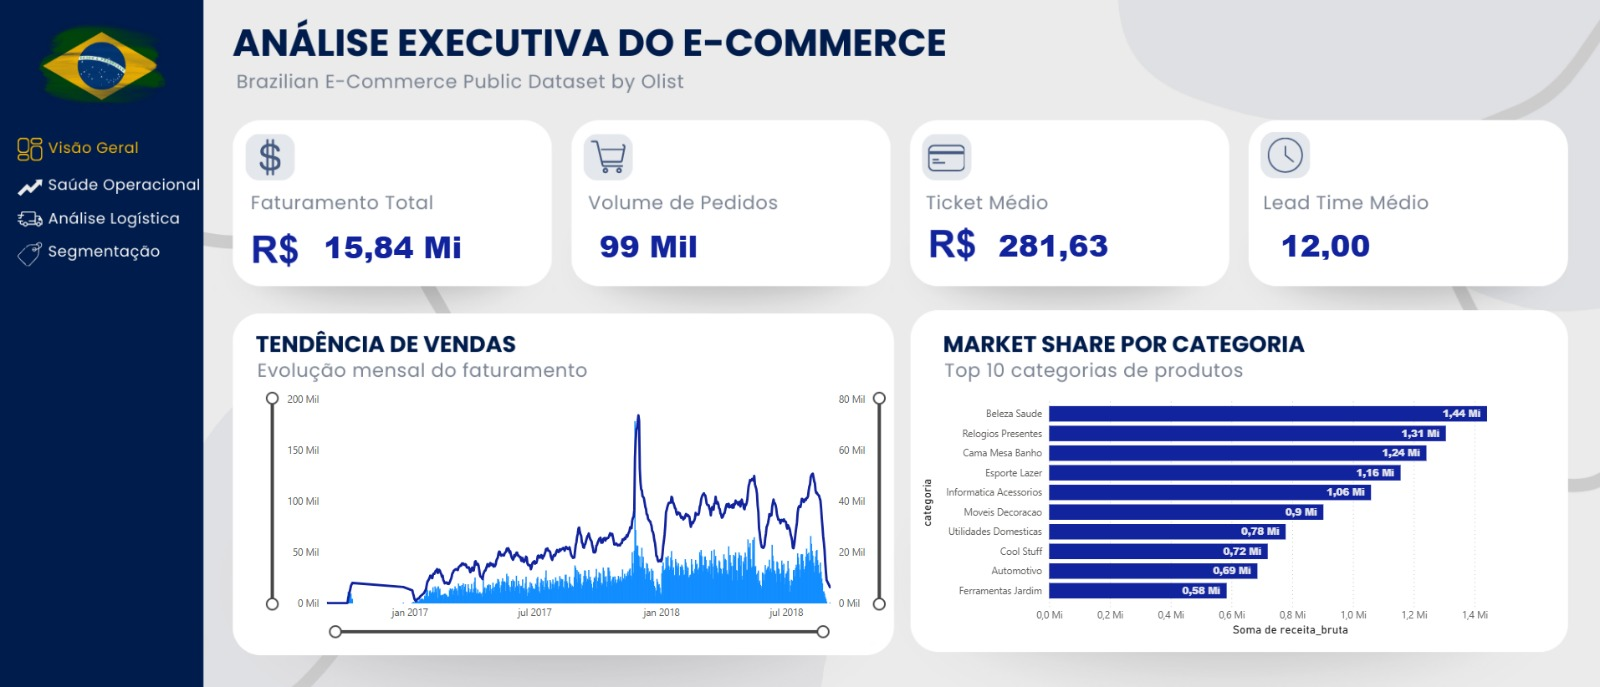

The page's visual inventory and layout, read from the dashboard file:
{"tool":"powerbi","page":{"name":"Visão Geral","canvas":[2000,866],"ordinal":0},"visuals":[{"type":"cardVisual","fields":{"Data":["Sum(Curva de Vendas.receita_total)"]},"box":[374,268,260,78],"z":0},{"type":"cardVisual","fields":{"Data":["Sum(Curva de Vendas.qtd_pedidos)"]},"box":[718,268,212,76],"z":1000},{"type":"cardVisual","fields":{"Data":["Sum(Fim de Semana.ticket_medio)"]},"box":[1215,266.2,218.8,77.5],"z":2000},{"type":"cardVisual","fields":{"Data":["Avg(Análise de SLA Logístico.media_global)"]},"box":[1566,268,220,74],"z":3000},{"type":"lineStackedColumnComboChart","fields":{"Category":["Média Móvel de 7 Dias.dat_ref"],"Y":["Sum(Média Móvel de 7 Dias.receita_dia)"],"Y2":["Sum(Média Móvel de 7 Dias.media_movel_7d)"]},"box":[328.5,484.5,778.5,314.7],"z":4000},{"type":"barChart","fields":{"Category":["Ranking de Categorias.categoria"],"Y":["Sum(Ranking de Categorias.receita_bruta)"]},"box":[1141.5,484.5,788.1,314.7],"z":5000},{"type":"actionButton","box":[0,209.8,252.6,40],"z":6000},{"type":"actionButton","box":[0,249.8,252.6,40],"z":7000},{"type":"actionButton","box":[0,296.8,252.6,40],"z":8000}]}

Visuals, with their boxes on the page's 2000x866 design canvas (x1, y1, x2, y2). These are canvas units, not pixel positions in the 1600x687 screenshot, which may show the page scaled, cropped or inside an application window:
cardVisual - Sum(Curva de Vendas.receita_total): 374/268/634/346
cardVisual - Sum(Curva de Vendas.qtd_pedidos): 718/268/930/344
cardVisual - Sum(Fim de Semana.ticket_medio): 1215/266/1434/344
cardVisual - Avg(Análise de SLA Logístico.media_global): 1566/268/1786/342
lineStackedColumnComboChart - Média Móvel de 7 Dias.dat_ref x Sum(Média Móvel de 7 Dias.receita_dia): 328/484/1107/799
barChart - Ranking de Categorias.categoria x Sum(Ranking de Categorias.receita_bruta): 1142/484/1930/799
actionButton: 0/210/253/250
actionButton: 0/250/253/290
actionButton: 0/297/253/337
